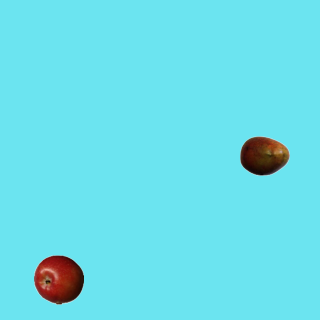Apple Braeburn: (33, 254, 83, 304)
Mango Red: (239, 130, 289, 180)
